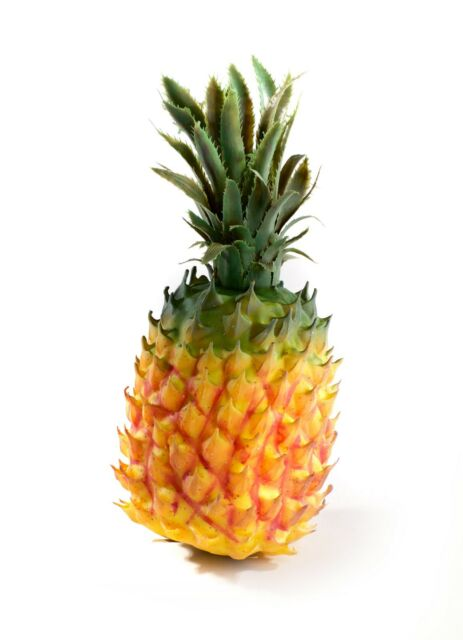Pineapple - (100 grams - 50 calories): (120, 63, 341, 595)
